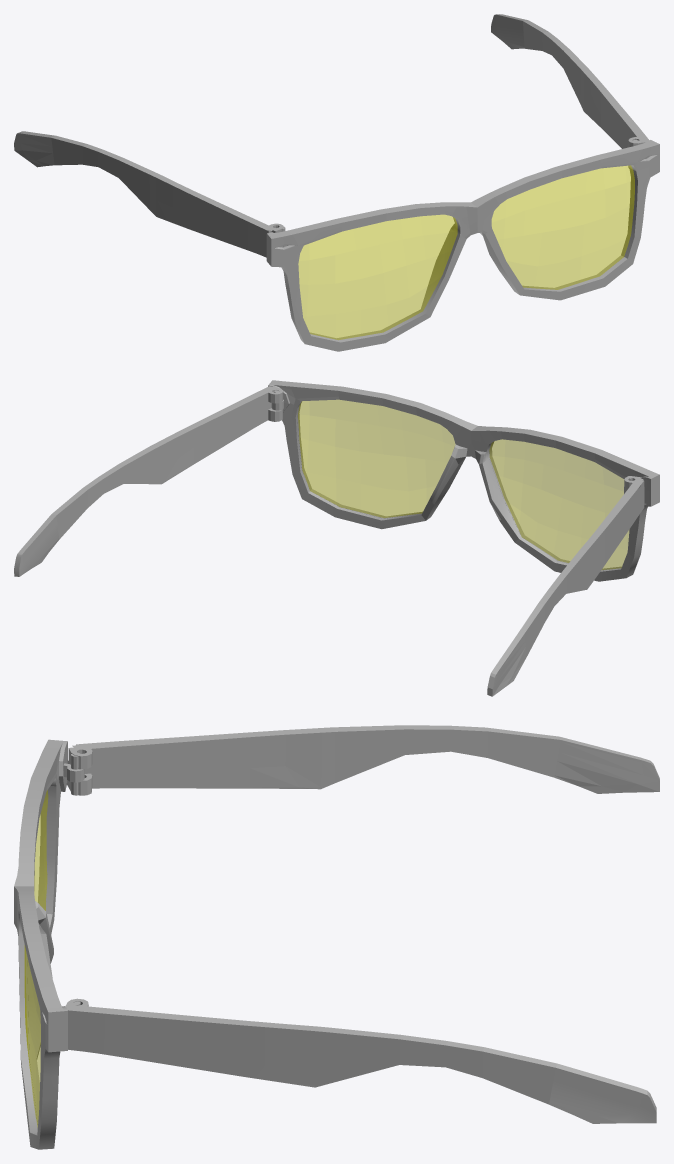
The model's file is Glasses.fbx.
The picture shows the model from 3 angles, top to bottom: view 1: azimuth 30°, elevation 25°; view 2: azimuth 150°, elevation 25°; view 3: azimuth 270°, elevation 25°; orthographic projection. The views are drawn at different scales.
Parts seen in each view (by area): view 1: Lens, Rlens, Llens, RightArm, LeftArm; view 2: Llens, Lens, Rlens, LeftArm, RightArm; view 3: LeftArm, RightArm, Lens, Llens, Rlens.
Part boxes in pixels (x1,y1,x2,y2): Lens: [266, 140, 659, 351]; Rlens: [298, 214, 457, 339]; Llens: [491, 165, 634, 289]; RightArm: [14, 131, 283, 257]; LeftArm: [491, 14, 650, 168]; Llens: [298, 399, 455, 518]; Lens: [268, 380, 659, 581]; Rlens: [489, 439, 629, 569]; LeftArm: [14, 386, 283, 576]; RightArm: [487, 476, 646, 696]; LeftArm: [65, 998, 656, 1123]; RightArm: [66, 725, 659, 795]; Lens: [14, 739, 84, 1149]; Llens: [24, 945, 40, 1127]; Rlens: [34, 790, 48, 910].
Bounding box in the file's own units: 21.13 × 5.48 × 17.06.
